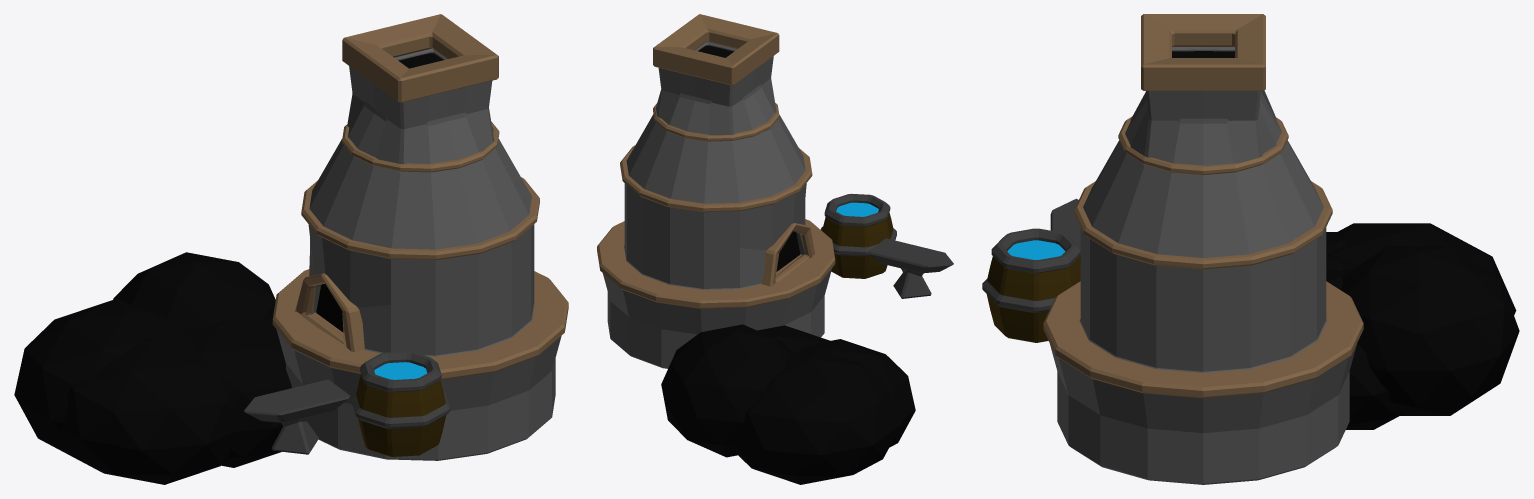
File: Forge.fbx
3 views of the same model, side by side, from view 1: azimuth 30°, elevation 25°; view 2: azimuth 150°, elevation 25°; view 3: azimuth 270°, elevation 25° (orthographic). The views are drawn at different scales.
Visible parts, largest first — view 1: Куб; view 2: Куб; view 3: Куб.
Boxes of the visible parts, left/top/right/bottom form: Куб: left=14, top=14, right=568, bottom=484; Куб: left=597, top=14, right=953, bottom=484; Куб: left=982, top=14, right=1519, bottom=484.
Size of the model in its own units: 669 by 631 by 675.
